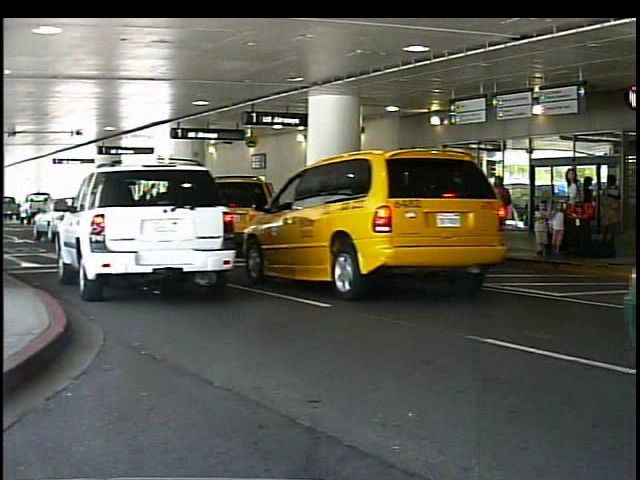person: (485, 173, 514, 258), (562, 166, 589, 257), (603, 174, 626, 243), (580, 174, 600, 244), (535, 200, 555, 256), (552, 201, 569, 254)
